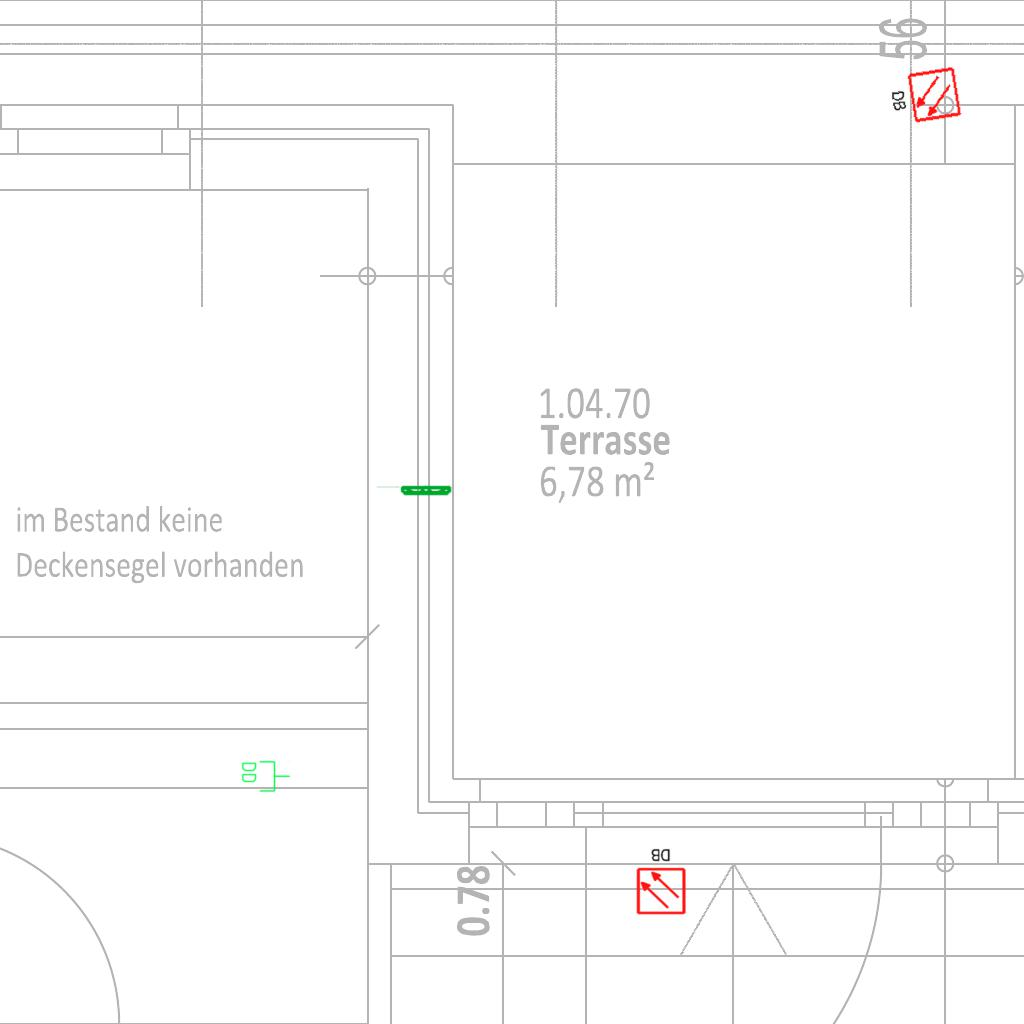DB_Melder_in_Doppelboden_mit_Revisionsoeffnung_mind_40_x_40_cm: (883, 63, 966, 131), (632, 844, 689, 918)
Datenanschluss_zweifach: (240, 759, 291, 793)
Sicherheitsleuchte_Wandeinbau: (374, 485, 453, 497)
